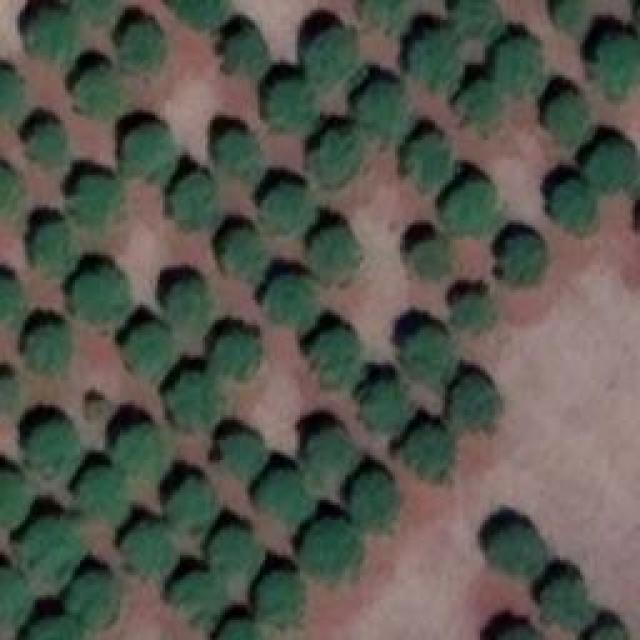Tree: (350, 83, 413, 146), (445, 375, 503, 435), (25, 515, 83, 575), (75, 175, 130, 238), (67, 62, 125, 120), (305, 430, 358, 493), (493, 518, 546, 581), (122, 120, 180, 175), (307, 23, 365, 78), (23, 8, 76, 68), (490, 35, 543, 95), (308, 518, 361, 578), (535, 575, 595, 628), (75, 262, 128, 320), (68, 570, 118, 630), (25, 320, 80, 373), (310, 225, 363, 280), (585, 138, 640, 191), (125, 322, 175, 380), (172, 368, 220, 428), (595, 30, 640, 93), (208, 528, 261, 581), (260, 183, 315, 233), (445, 180, 500, 230), (123, 523, 178, 573), (313, 323, 358, 383), (313, 128, 363, 181), (415, 28, 463, 83), (167, 475, 215, 530), (120, 17, 165, 75), (365, 377, 410, 435), (267, 75, 315, 128), (173, 575, 226, 623), (255, 570, 305, 620), (25, 418, 75, 468), (358, 470, 398, 530), (260, 472, 310, 520), (112, 423, 160, 473), (173, 173, 216, 228), (413, 423, 456, 478), (410, 130, 450, 188), (218, 128, 263, 178), (223, 228, 268, 278), (215, 328, 260, 378), (270, 273, 315, 323), (553, 178, 598, 228), (25, 120, 70, 168), (168, 277, 213, 325), (225, 25, 268, 75), (413, 328, 456, 378), (458, 80, 498, 133), (160, 0, 235, 28), (0, 565, 28, 635), (220, 430, 268, 470), (35, 225, 73, 275), (505, 233, 543, 283), (80, 473, 125, 513), (455, 292, 498, 330), (0, 465, 28, 523), (548, 93, 583, 138), (460, 0, 500, 38), (412, 238, 450, 278), (0, 70, 28, 123), (0, 275, 28, 323), (0, 165, 25, 215), (552, 0, 589, 32), (70, 0, 115, 25), (365, 0, 403, 28), (30, 620, 83, 640), (0, 375, 25, 415), (218, 622, 268, 640)
